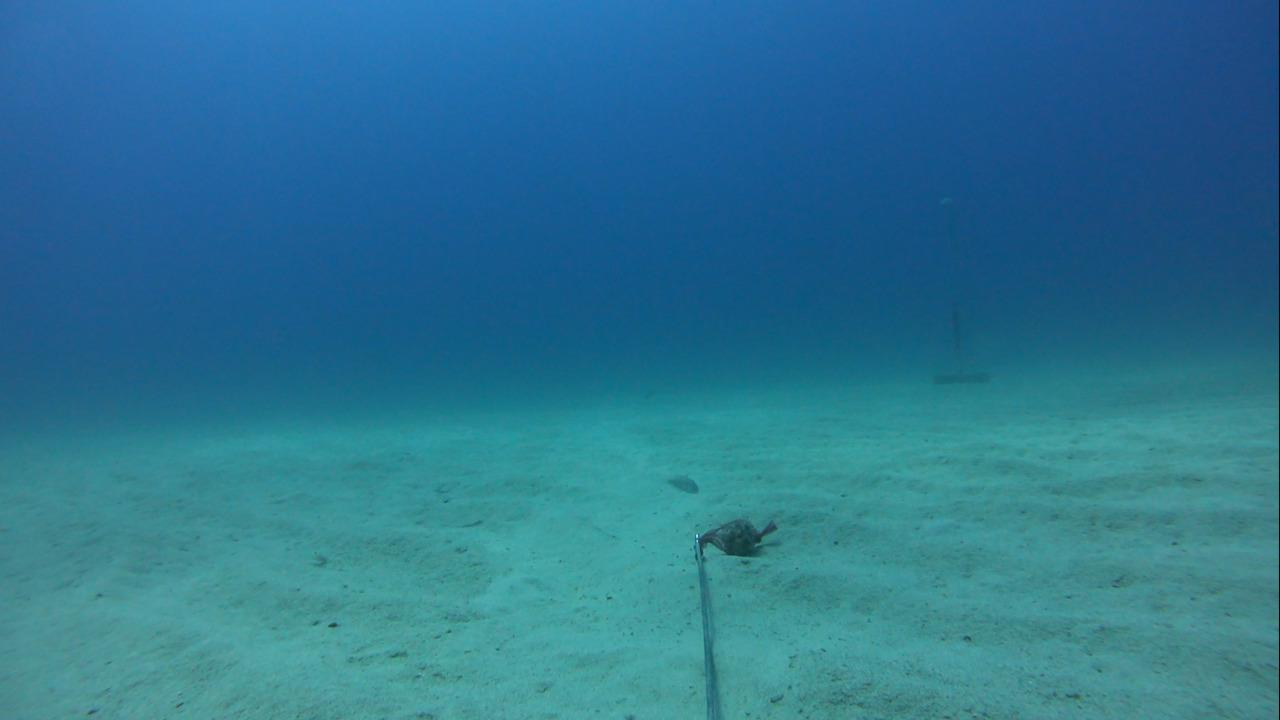raor: (652, 466, 706, 495)
